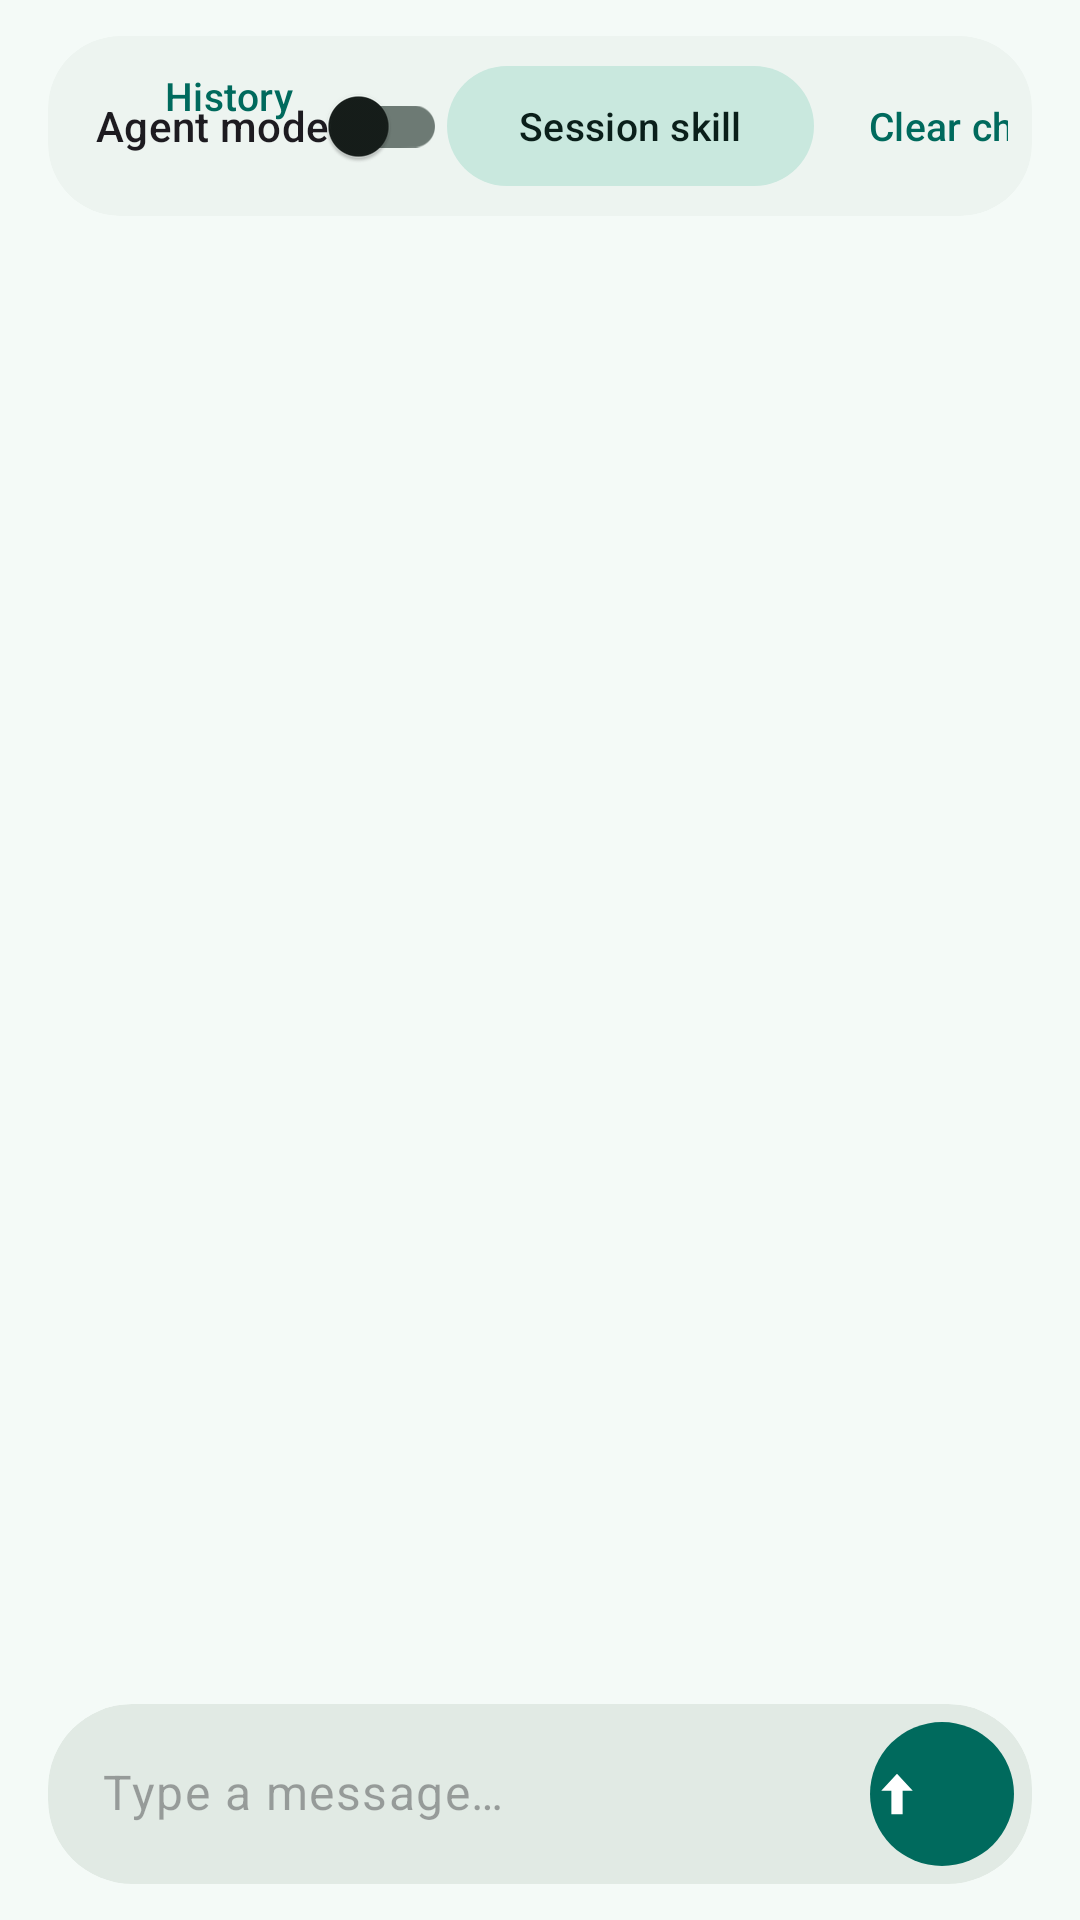

Screen size 1080×1920. Icon name, then its center in pixels as [x,y]:
Send: [942,1794]
